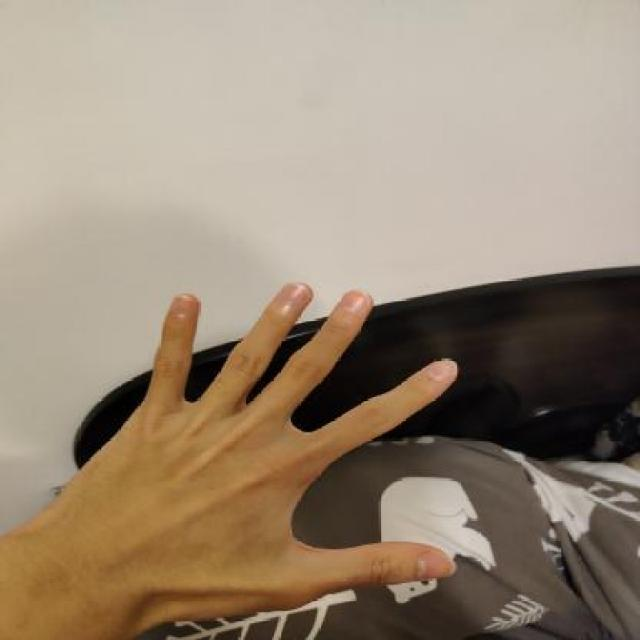Hand: (32, 282, 460, 614)
